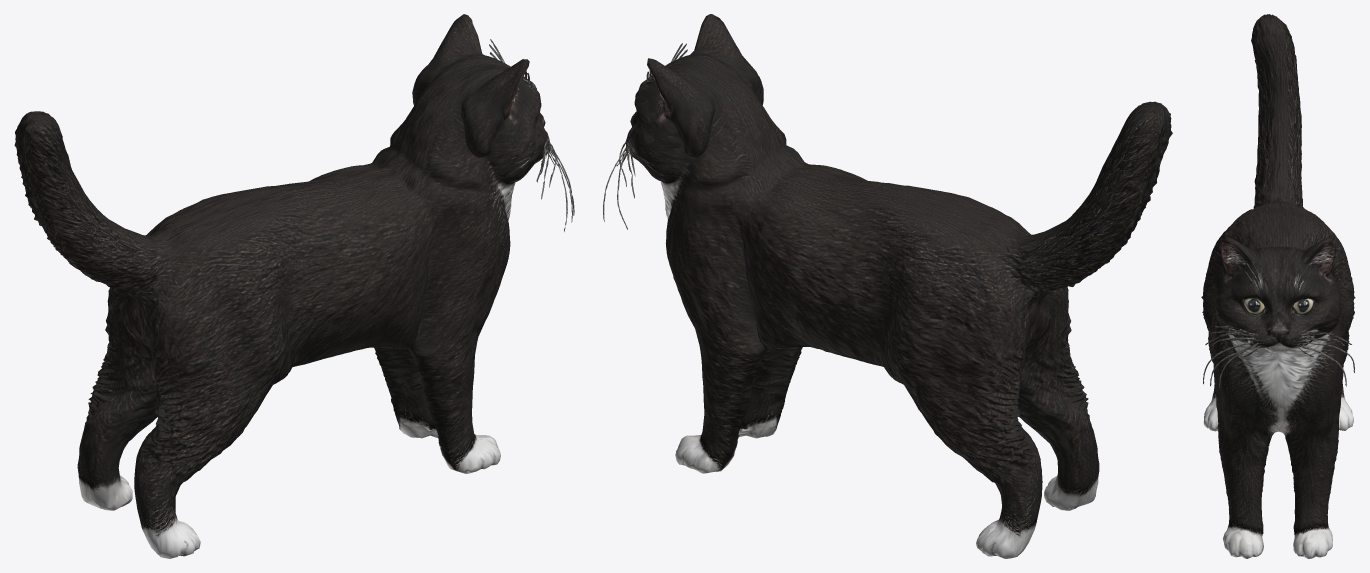
Rendered from CZELDA.glb.
3 views of the same model, side by side, from view 1: azimuth 30°, elevation 25°; view 2: azimuth 150°, elevation 25°; view 3: azimuth 270°, elevation 25° (orthographic). The views are drawn at different scales.
Visible parts, largest first — view 1: tripo_node_551023c3-2041-43d9-a94c-d67544b4a3e3; view 2: tripo_node_551023c3-2041-43d9-a94c-d67544b4a3e3; view 3: tripo_node_551023c3-2041-43d9-a94c-d67544b4a3e3.
Part boxes in pixels (bbox=[...]): tripo_node_551023c3-2041-43d9-a94c-d67544b4a3e3: bbox=[14, 14, 574, 558]; tripo_node_551023c3-2041-43d9-a94c-d67544b4a3e3: bbox=[603, 14, 1172, 558]; tripo_node_551023c3-2041-43d9-a94c-d67544b4a3e3: bbox=[1201, 14, 1355, 558].
Bounding box in the file's own units: 1.24 × 0.9994 × 0.3816.
1 material, 1 textured.
